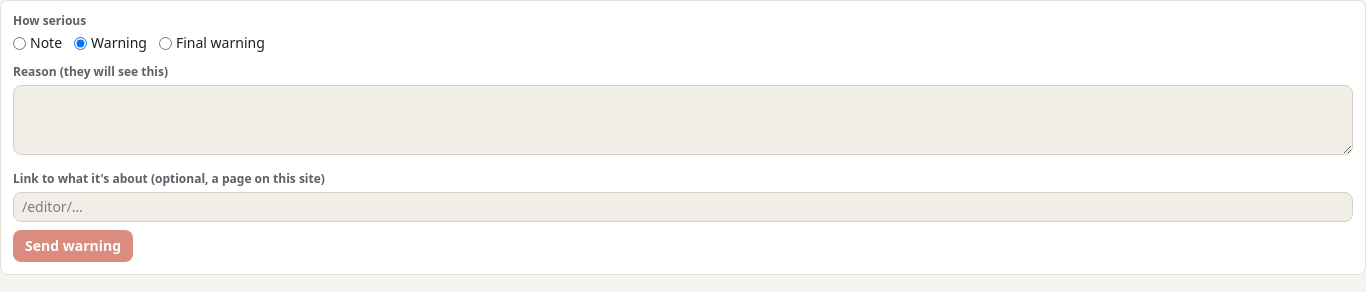
it: WarnForm › sends the severity, the reason and the link
Click the radio button labelled "Final warning".
click(166, 43)  # box [159,36,172,50]
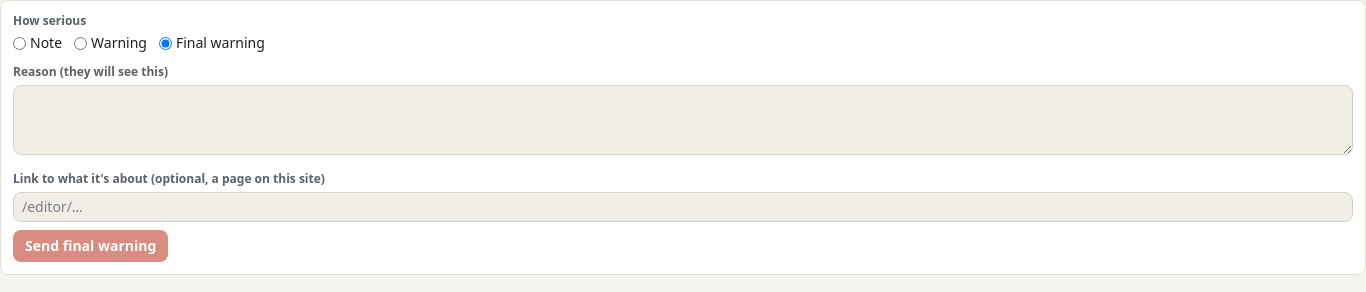
Type "  Rude comments  " into the text box labelled "Reason (they will see this)".
click(683, 120); type("  Rude comments  ")  # box [13,85,1353,155]
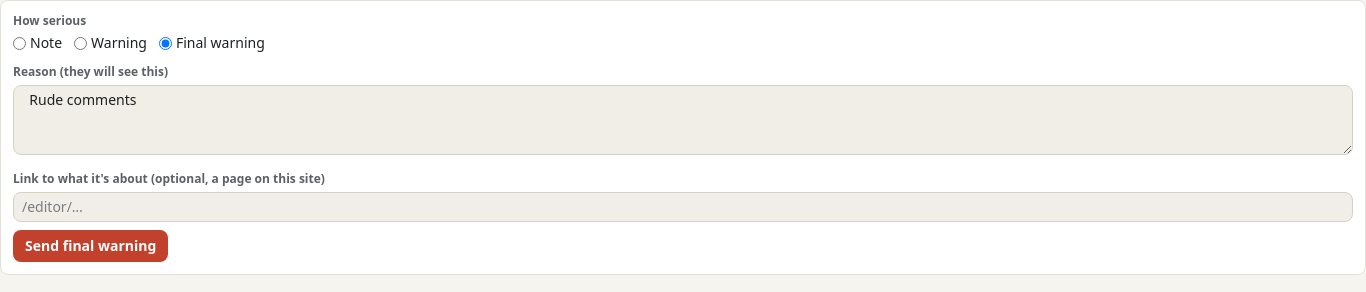
Type "/editor/abc" into the field labelled "Link to what it's about (optional, a page on this site)".
click(683, 207); type("/editor/abc")  # box [13,192,1353,222]
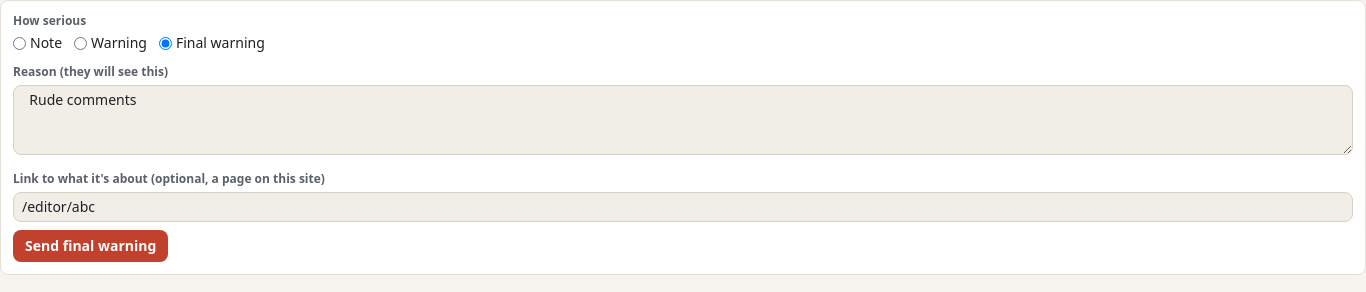
Click the button "Send final warning".
click(91, 246)  # box [13,230,168,262]
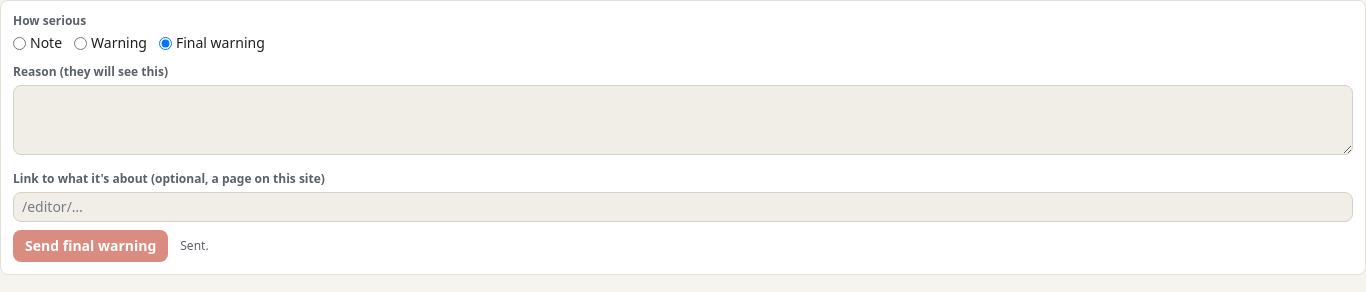
Expected: the text "Sent." is shown, [180,238,209,254]
